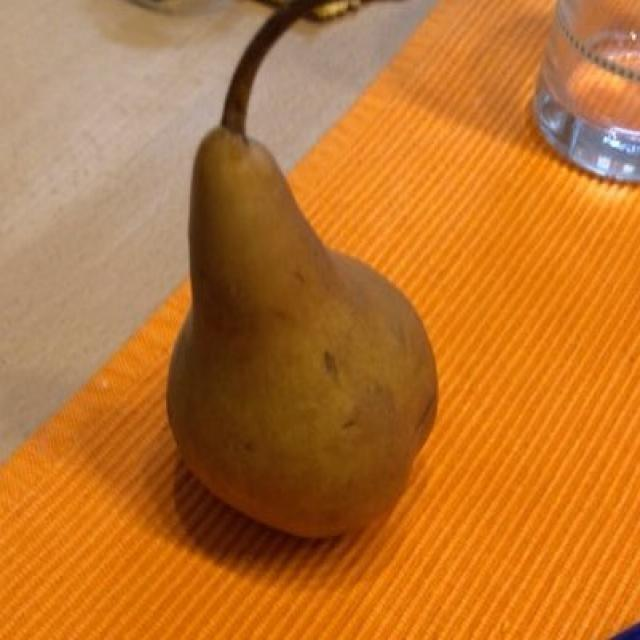pear: (172, 15, 433, 534)
